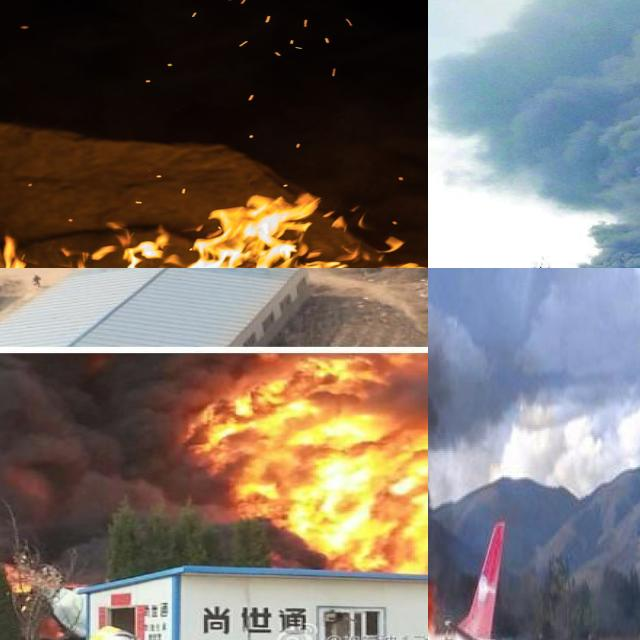fire: (189, 353, 428, 575), (0, 187, 428, 268), (0, 562, 35, 592)
smoke: (428, 0, 640, 268), (0, 356, 192, 499), (399, 362, 428, 433)
